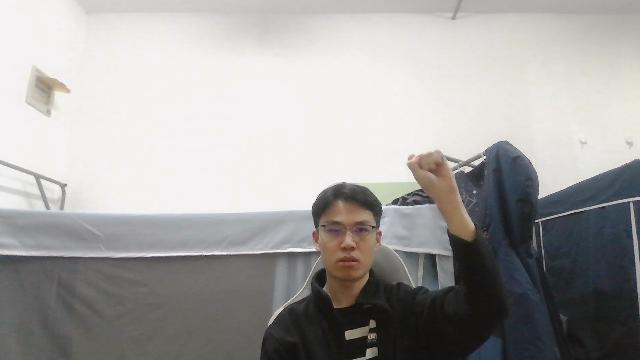five: (405, 149, 458, 195)
